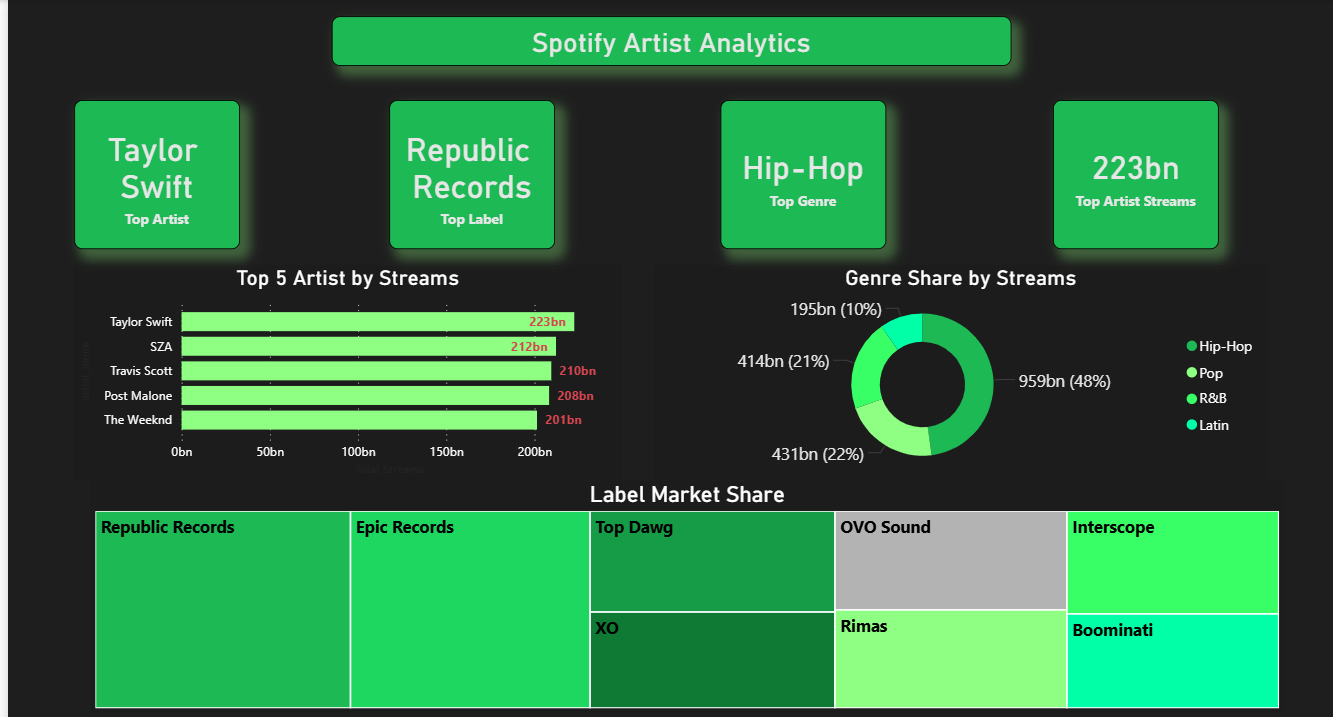

The page's visual inventory and layout, read from the dashboard file:
{"tool":"powerbi","page":{"name":"Artist Analytics Dashboard","canvas":[1280,720],"ordinal":1},"visuals":[{"type":"card","fields":{"Values":["KPI.Top Artist"]},"box":[64,96,160,144],"z":0},{"type":"card","fields":{"Values":["KPI.Top Genre"]},"box":[688,96,160,144],"z":1000},{"type":"card","fields":{"Values":["KPI.Top Label"]},"box":[368,96,160,144],"z":2000},{"type":"card","fields":{"Values":["KPI.Top Artist Streams"]},"box":[1008,96,160,144],"z":3000},{"type":"clusteredBarChart","title":"Top 5 Artist by Streams","fields":{"Y":["KPI.Total Streams"],"Category":["spotify_business_dataset_1000_rows.artist_name"]},"box":[64,256,528,208],"z":4000},{"type":"treemap","title":"Label Market Share","fields":{"Group":["spotify_business_dataset_1000_rows.label"],"Values":["KPI.Total Streams"]},"box":[80,464,1152,224],"z":5000},{"type":"donutChart","title":"Genre Share by Streams","fields":{"Category":["spotify_business_dataset_1000_rows.genre"],"Y":["KPI.Total Streams"]},"box":[624,256,592,208],"z":6000},{"type":"card","fields":{"Values":["KPI.II"]},"box":[312,16,656,48],"z":7000}]}

Visuals, with their boxes on the page's 1280x720 design canvas (x1, y1, x2, y2). These are canvas units, not pixel positions in the 1333x717 screenshot, which may show the page scaled, cropped or inside an application window:
card - KPI.Top Artist: bbox=[64, 96, 224, 240]
card - KPI.Top Genre: bbox=[688, 96, 848, 240]
card - KPI.Top Label: bbox=[368, 96, 528, 240]
card - KPI.Top Artist Streams: bbox=[1008, 96, 1168, 240]
"Top 5 Artist by Streams" clusteredBarChart: bbox=[64, 256, 592, 464]
"Label Market Share" treemap: bbox=[80, 464, 1232, 688]
"Genre Share by Streams" donutChart: bbox=[624, 256, 1216, 464]
card - KPI.II: bbox=[312, 16, 968, 64]
